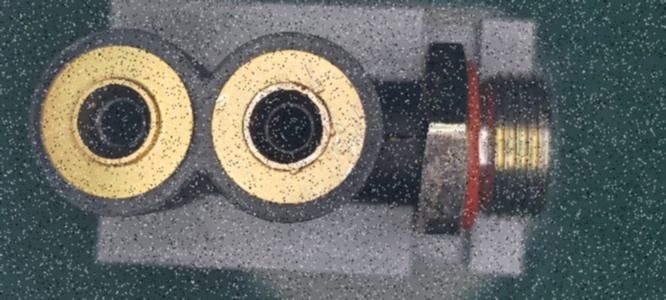craze: (381, 130, 427, 144)
